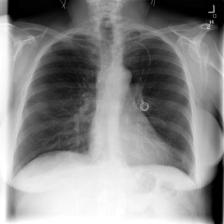normal: (9, 26, 199, 181)
